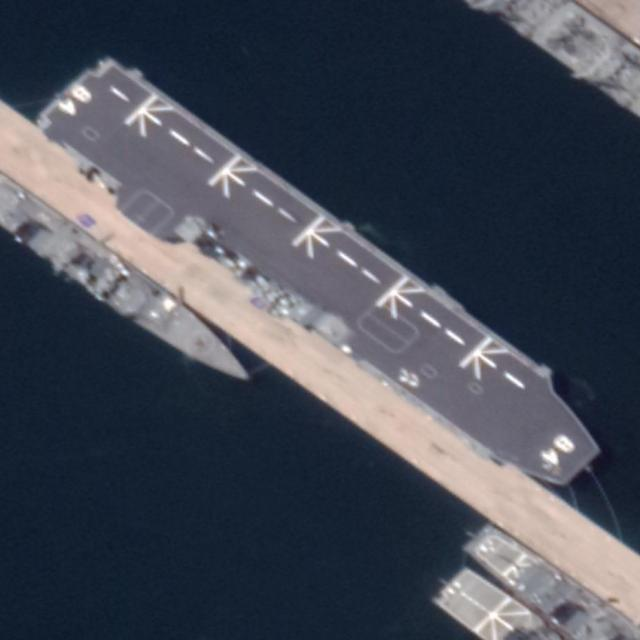Destroyer: (36, 38, 621, 510)
Other Warship: (1, 170, 251, 389), (462, 520, 640, 639), (428, 566, 562, 640)
